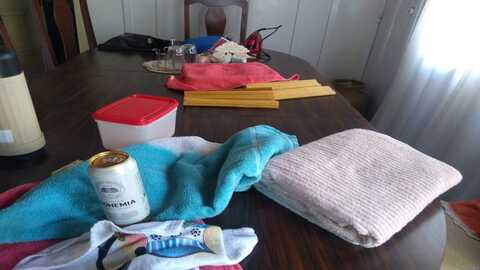bohemia: (86, 148, 153, 235)
